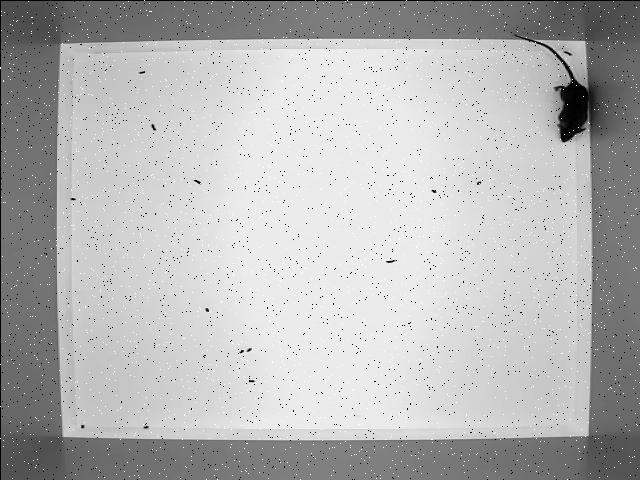Tikus: (512, 33, 588, 142)
